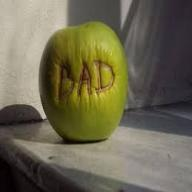apple: (34, 22, 128, 140)
